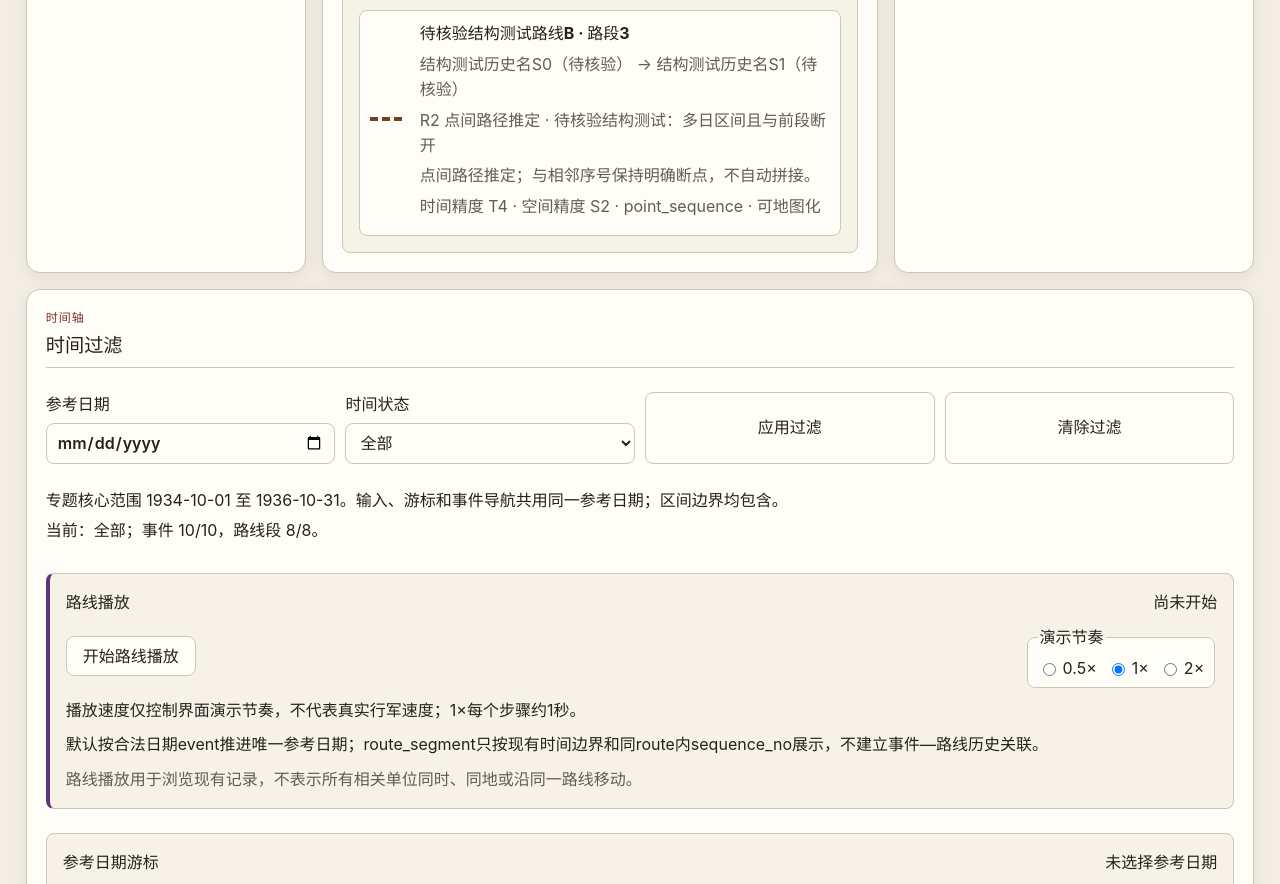
Scenario: application layout and map integration › does not bypass the active time status when a navigation target becomes hidden
(page scrolled)
Type "1934-10-01" into the date field labelled "参考日期".
click(191, 443); type("1934-10-01")  # box [46,423,335,464]
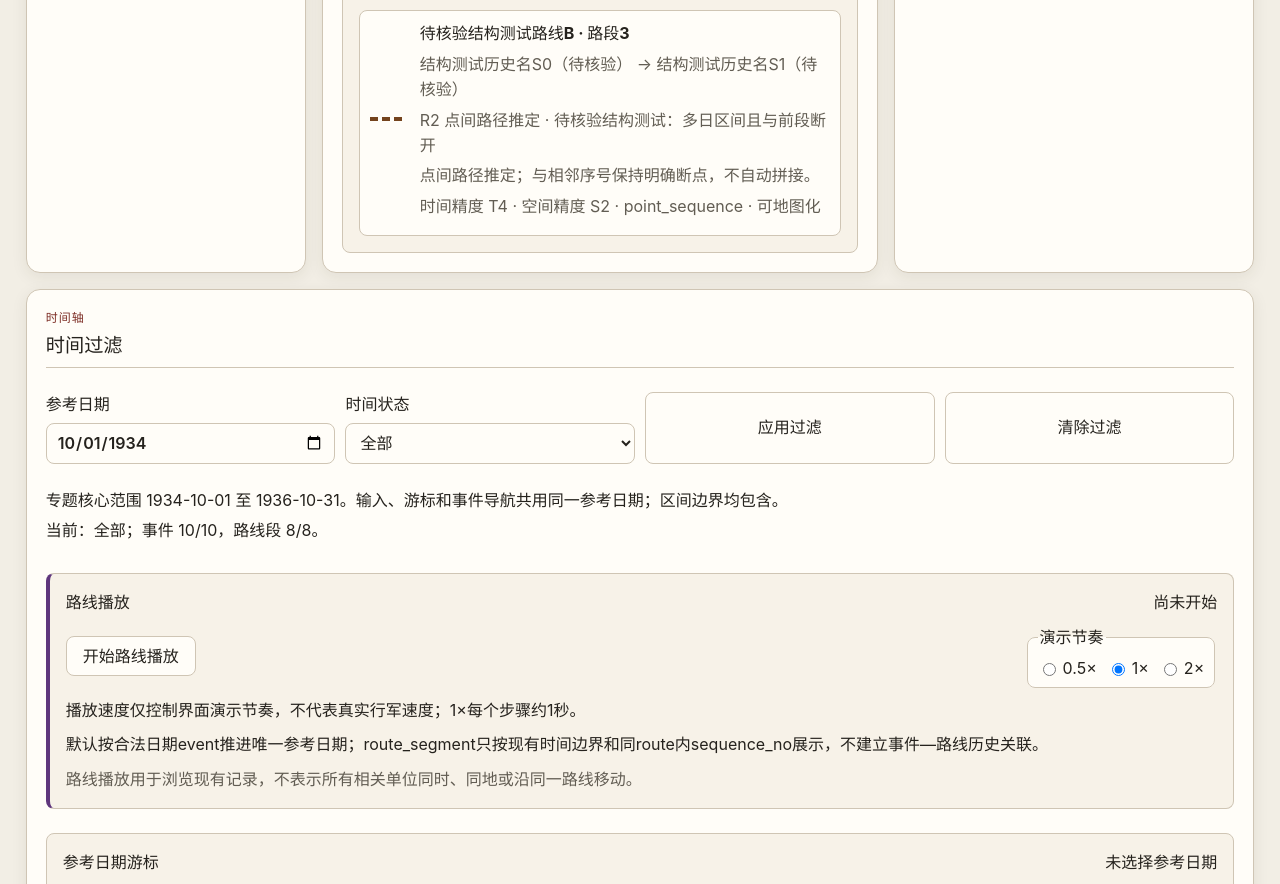
Select "未来" in the dropdown labelled "时间状态" at (490, 444), box [345,423,635,464]
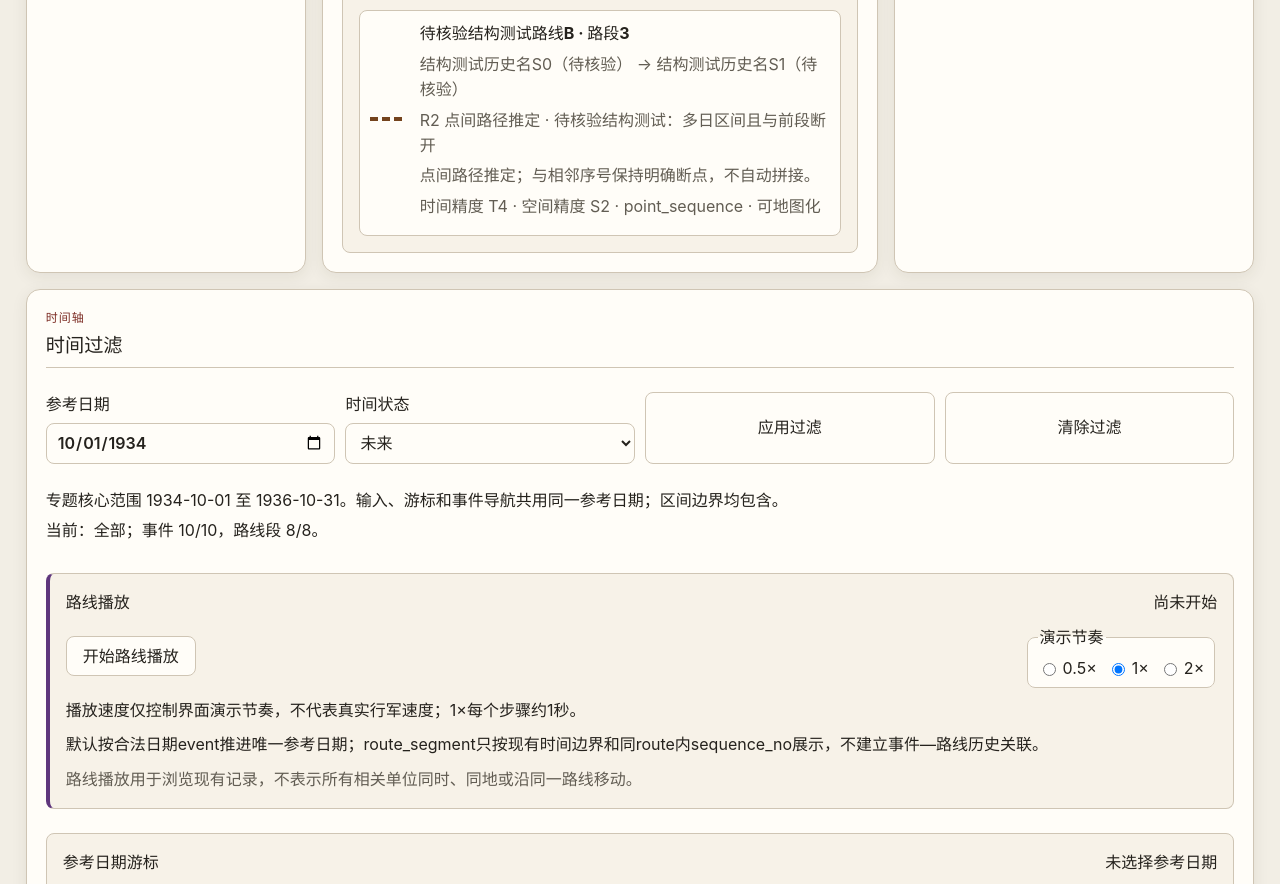
Click the button "应用过滤".
click(790, 428)  # box [645,392,935,464]
(page scrolled)
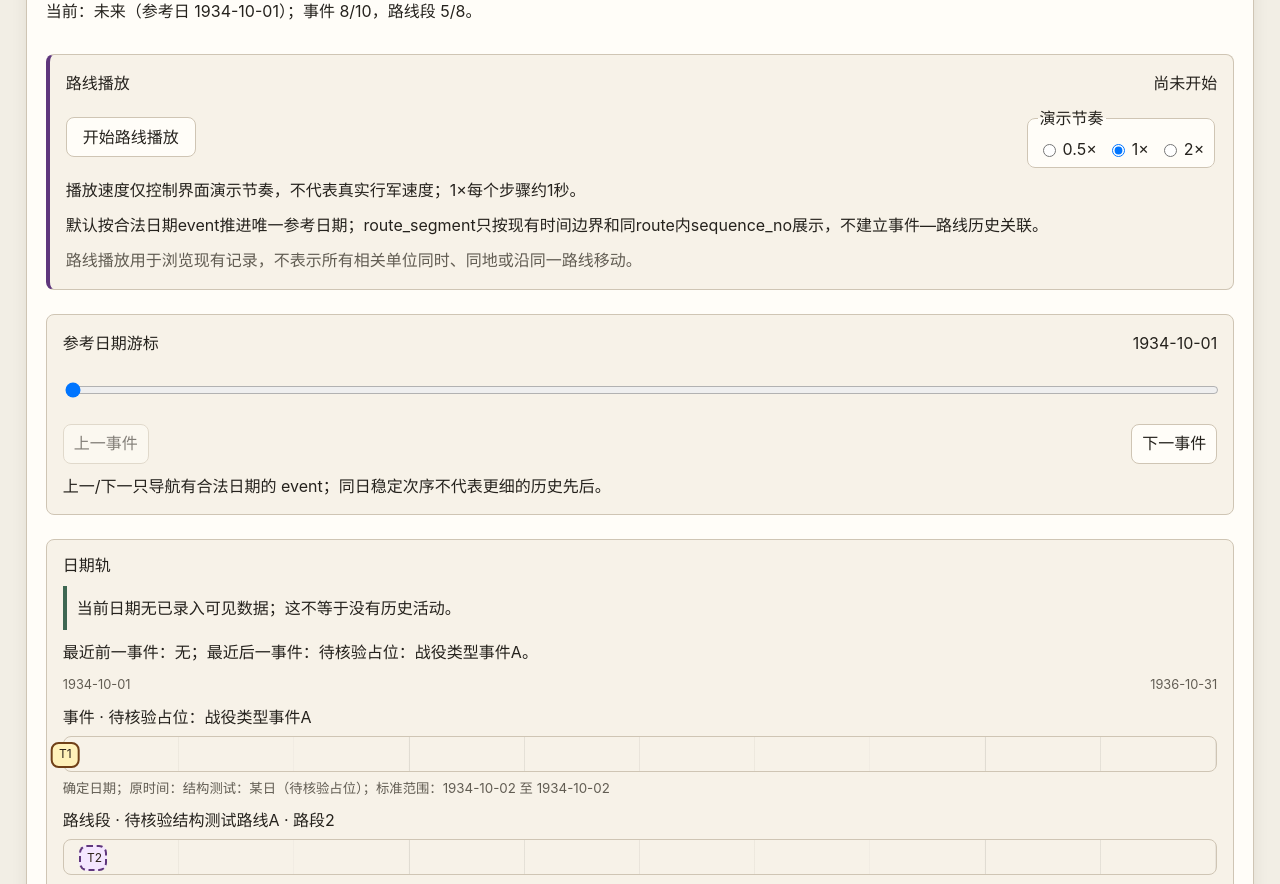
Click the button "下一事件".
click(1174, 444)  # box [1131,424,1217,464]
(page scrolled)
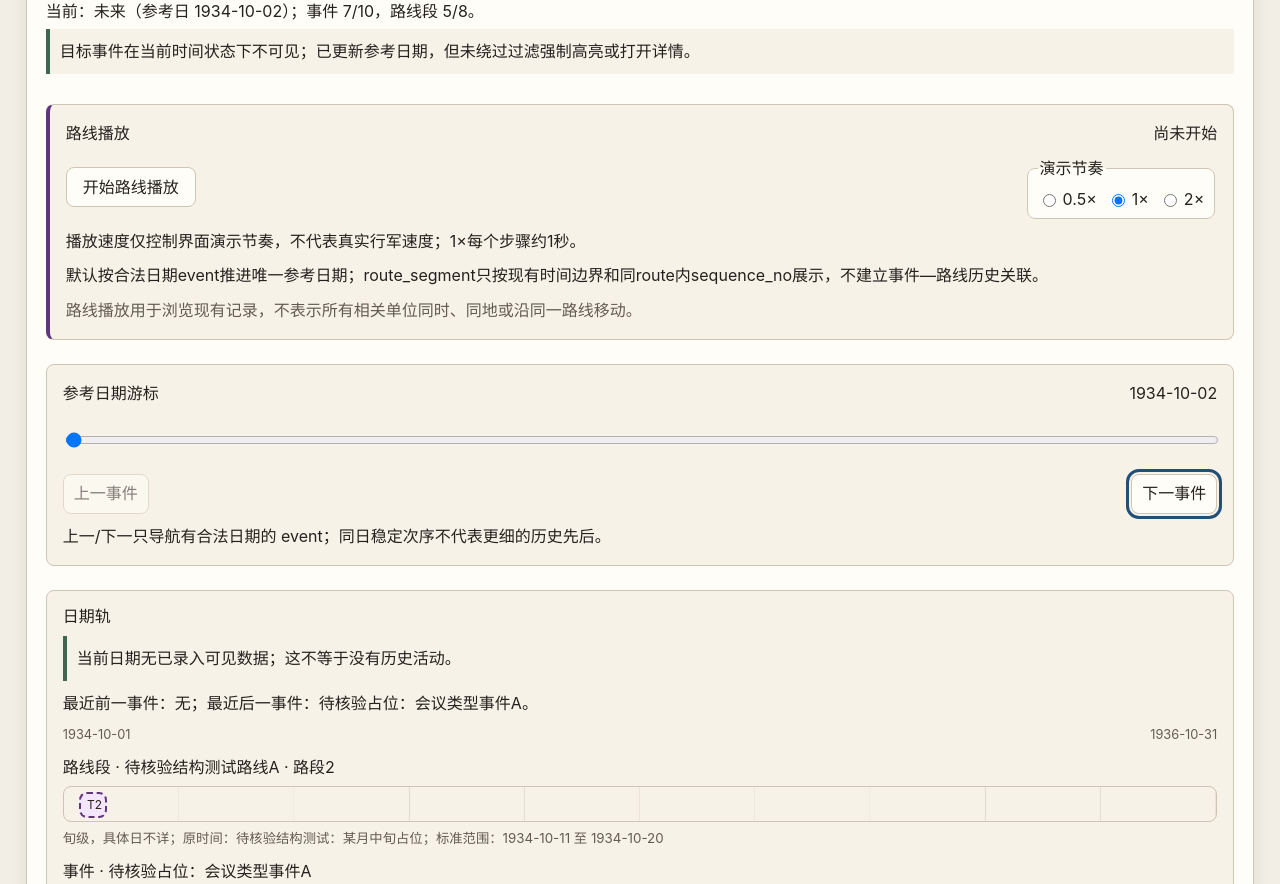
Now the text "目标事件在当前时间状态下不可见；已更新参考日期，但未绕过过滤强制高亮或打开详情。" is shown, box [46,29,1234,74]
